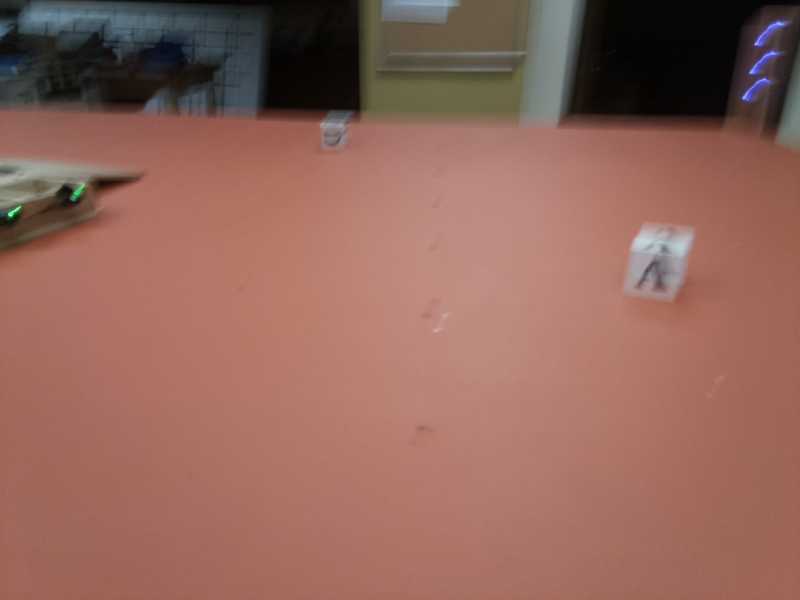blockA: (618, 224, 697, 308)
blockD: (319, 112, 353, 158)
corner: (721, 4, 796, 141)
side: (2, 181, 105, 251)
slope: (3, 154, 146, 185)
